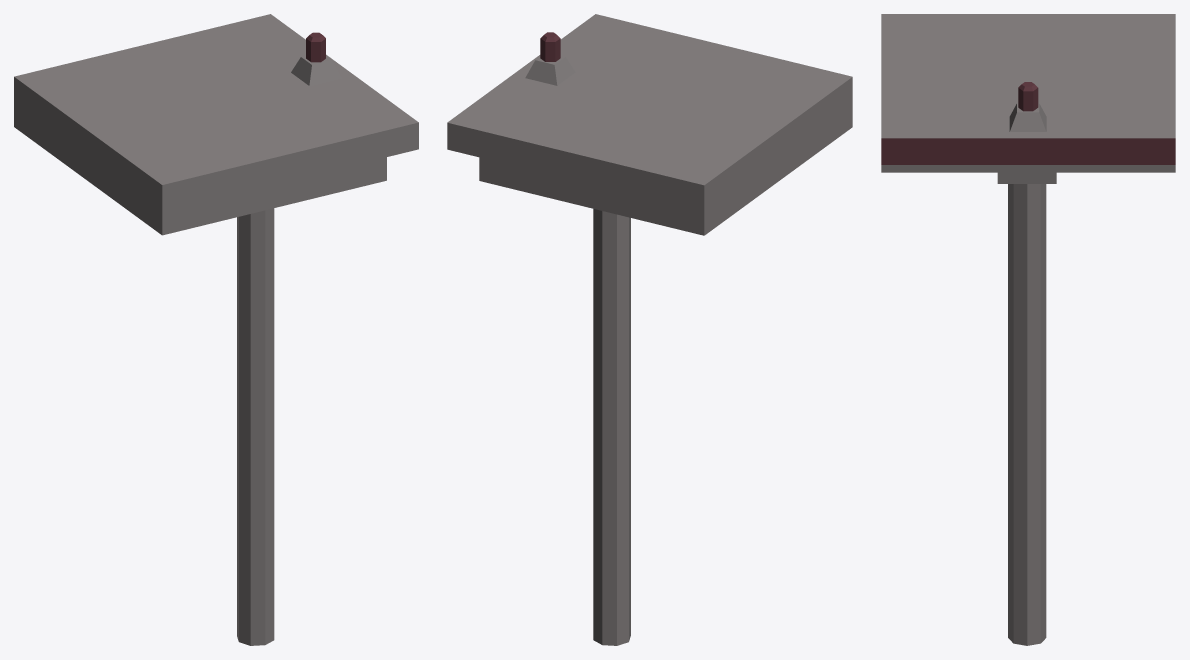
Rendered from pier-concrete-side.fbx.
3 renders of one model, left to right at view 1: azimuth 30°, elevation 25°; view 2: azimuth 150°, elevation 25°; view 3: azimuth 270°, elevation 25°, orthographic.
Parts seen in each view (by area): view 1: pier-concrete-side; view 2: pier-concrete-side; view 3: pier-concrete-side.
Part boxes in pixels (left/top/right/bottom): pier-concrete-side: left=14, top=14, right=418, bottom=645; pier-concrete-side: left=447, top=14, right=852, bottom=645; pier-concrete-side: left=881, top=14, right=1175, bottom=645.
Bounding box in the file's own units: 4 × 8.75 × 4.
